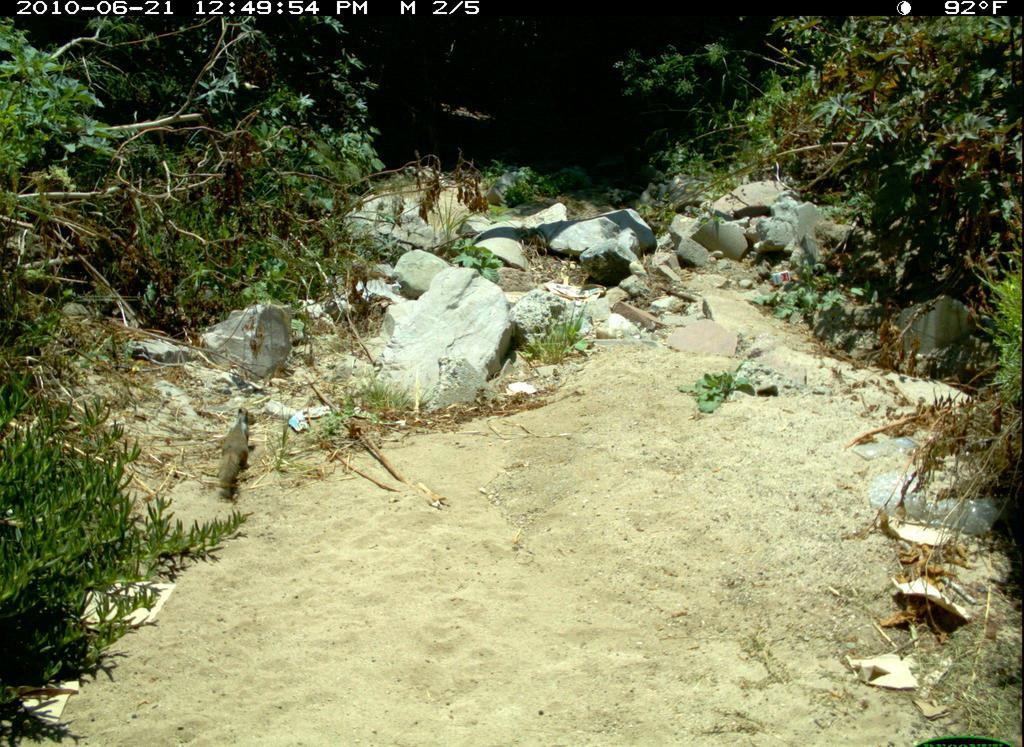squirrel: (212, 404, 260, 507)
